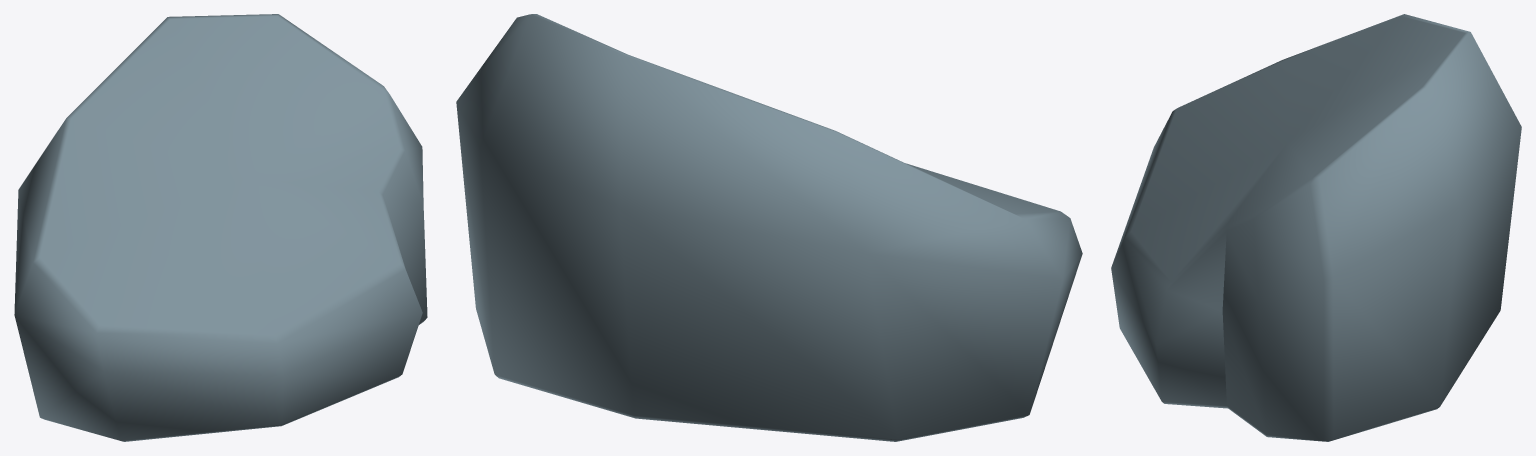
Rendered from Stone_3.fbx.
The picture shows the model from 3 angles, left to right: view 1: azimuth 30°, elevation 25°; view 2: azimuth 150°, elevation 25°; view 3: azimuth 270°, elevation 25°; orthographic projection. The views are drawn at different scales.
Parts seen in each view (by area): view 1: Rocks_3; view 2: Rocks_3; view 3: Rocks_3.
Part boxes in pixels (bbox=[...]): Rocks_3: bbox=[14, 14, 427, 441]; Rocks_3: bbox=[456, 14, 1082, 441]; Rocks_3: bbox=[1111, 14, 1521, 441].
Bounding box in the file's own units: 28.4 × 19.15 × 20.81.
